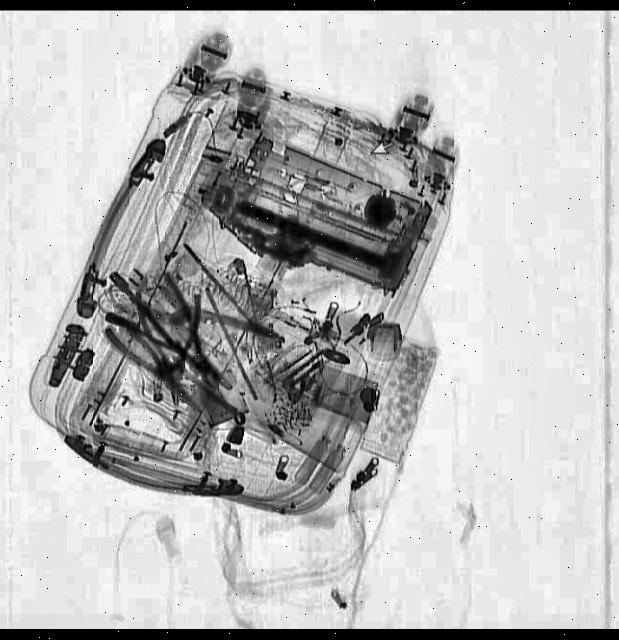Pliers: (128, 269, 237, 398), (99, 310, 208, 424)
